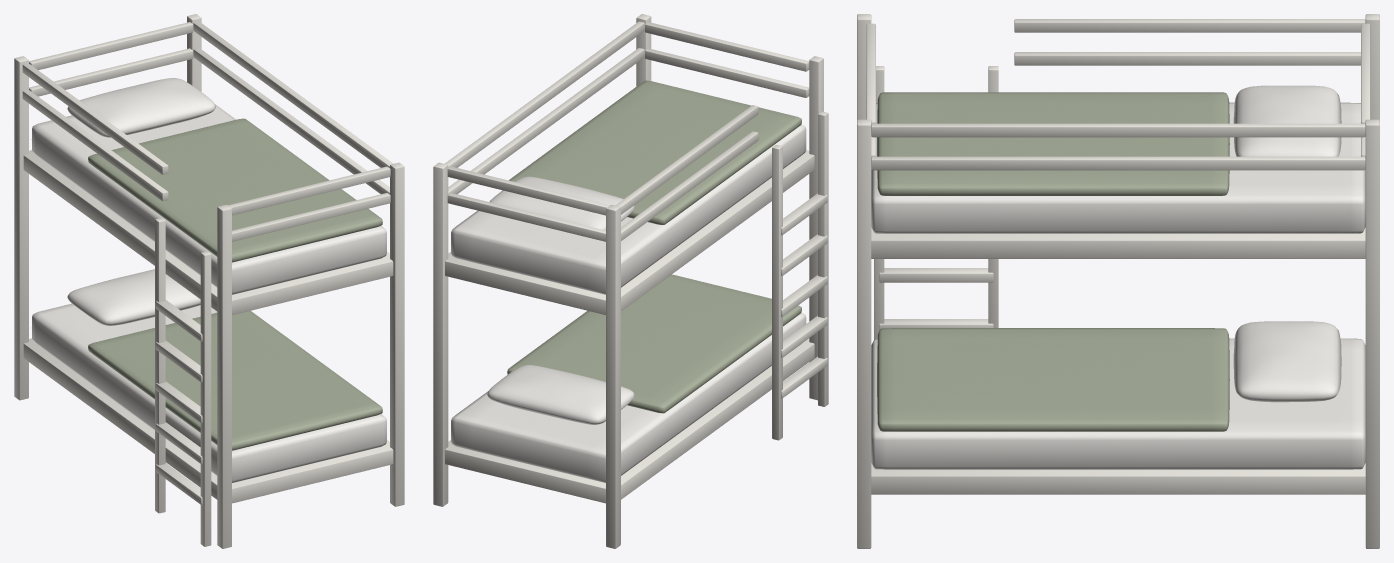
File: litera_madera_blanca_izquierda.glb
3 views of the same model, side by side, from view 1: azimuth 30°, elevation 25°; view 2: azimuth 150°, elevation 25°; view 3: azimuth 270°, elevation 25° (orthographic). The views are drawn at different scales.
Parts seen in each view (by area): view 1: litera_madera_blanca_izquierda; view 2: litera_madera_blanca_izquierda; view 3: litera_madera_blanca_izquierda.
Boxes of the visible parts, x1,y1,x2,y2 form: litera_madera_blanca_izquierda: [14, 14, 404, 548]; litera_madera_blanca_izquierda: [433, 14, 828, 548]; litera_madera_blanca_izquierda: [857, 14, 1379, 548].
Bounding box in the file's own units: 1.09 × 1.8 × 2.01.
3 materials, 2 textured.
